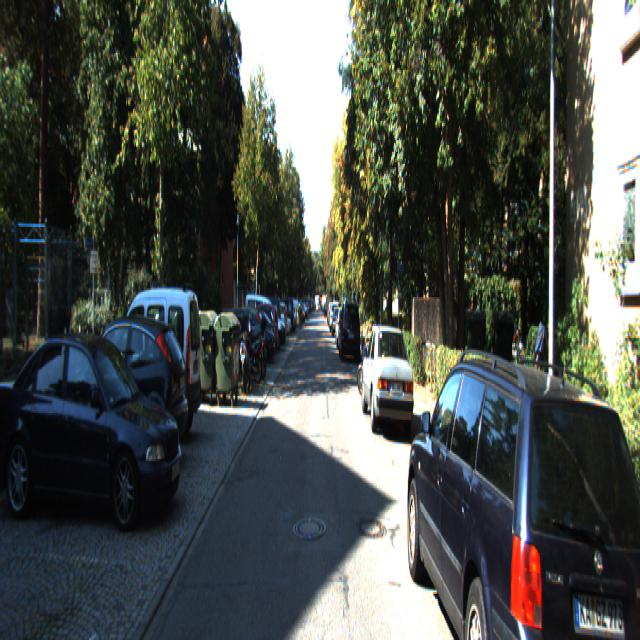Car: (403, 334, 640, 638), (0, 325, 186, 533), (57, 306, 190, 476), (104, 283, 203, 437), (359, 319, 416, 439), (217, 304, 264, 367), (235, 327, 265, 385), (338, 298, 361, 362)
